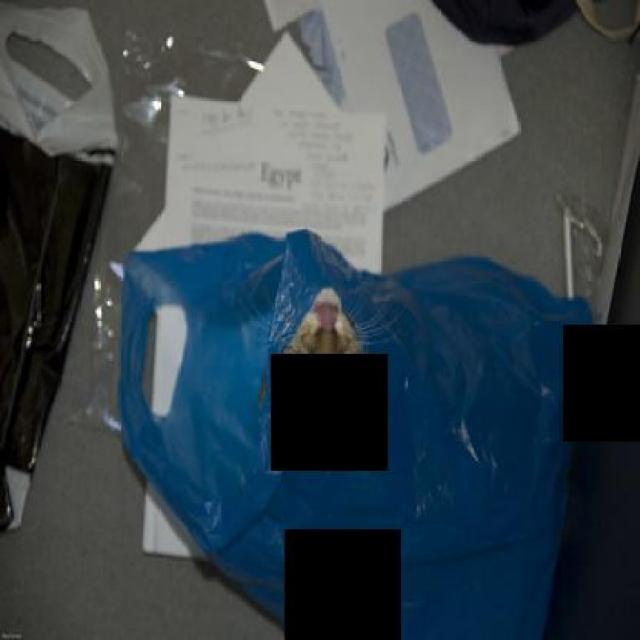plastic bag: (115, 222, 592, 638)
